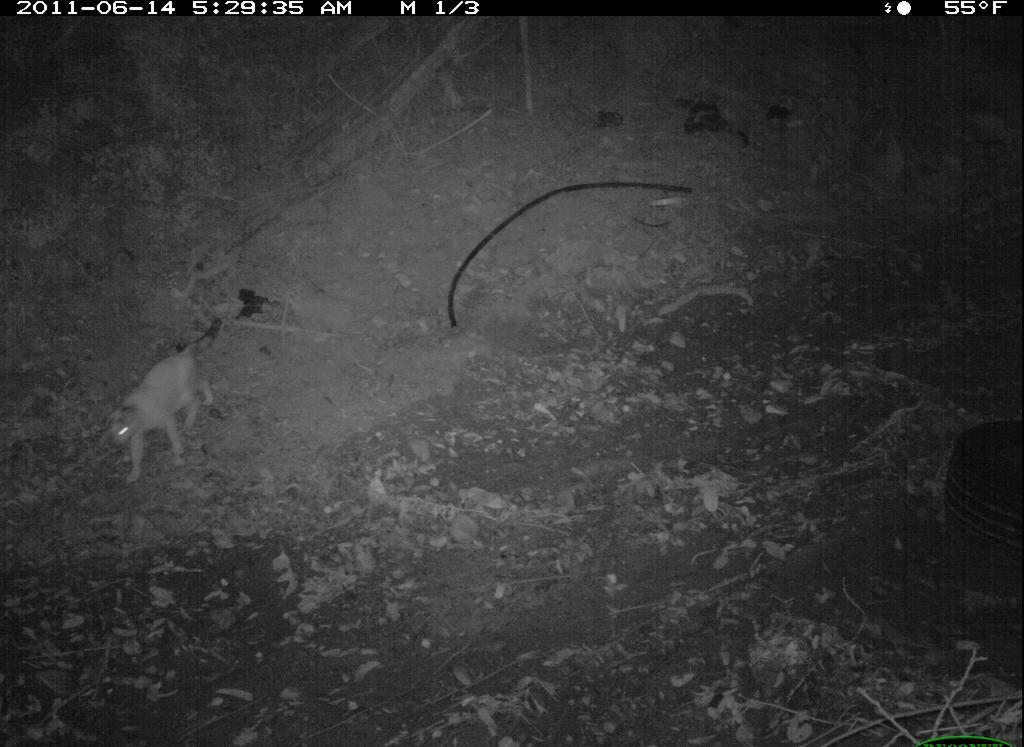cat: (97, 317, 235, 491)
